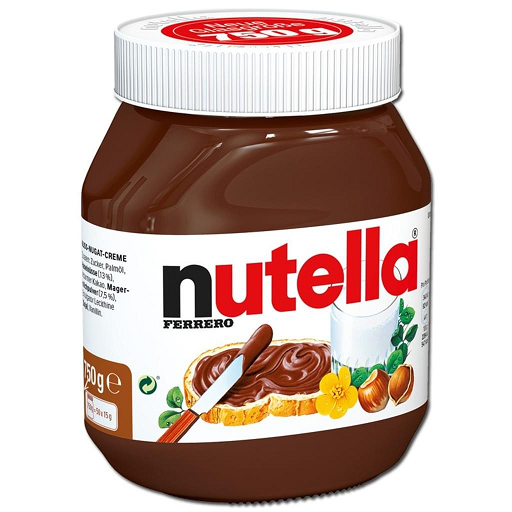nutella: (79, 4, 433, 503)
